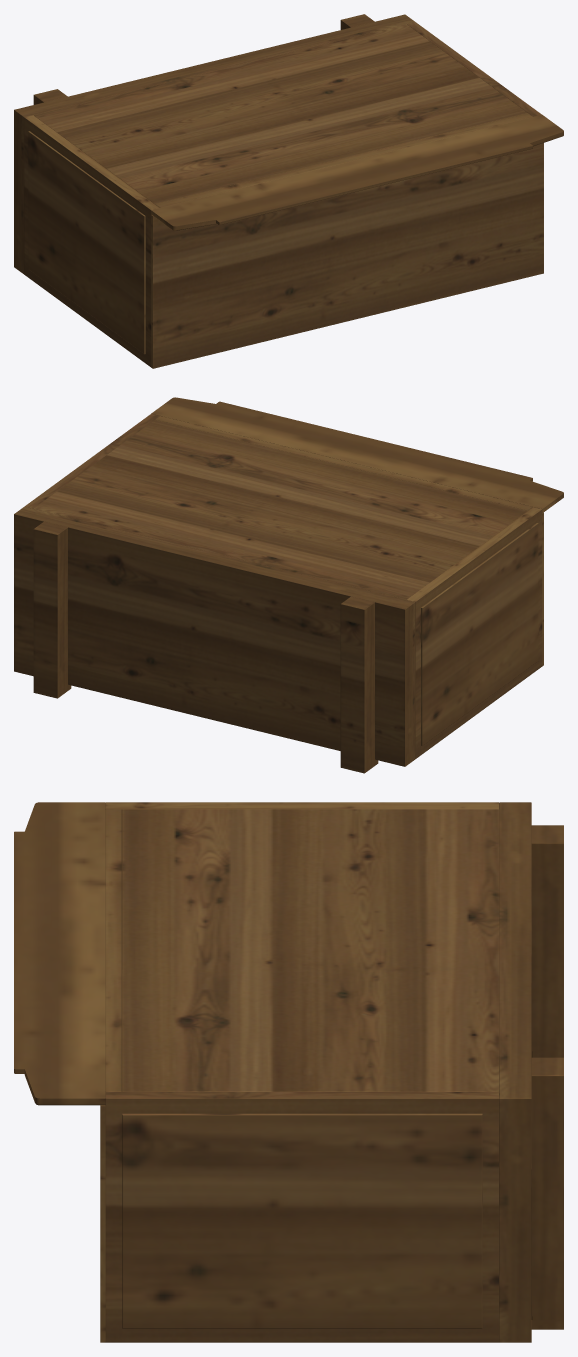
The model's file is raw_model.glb.
3 renders of one model, top to bottom at view 1: azimuth 30°, elevation 25°; view 2: azimuth 150°, elevation 25°; view 3: azimuth 270°, elevation 25°, orthographic. The views are drawn at different scales.
Visible parts, largest first — view 1: raw_model.007; view 2: raw_model.007; view 3: raw_model.007.
Part boxes in pixels (x1=…): raw_model.007: x1=14, y1=14, x2=563, y2=368; raw_model.007: x1=14, y1=397, x2=563, y2=773; raw_model.007: x1=14, y1=802, x2=563, y2=1342.
Bounding box in the file's own units: 0.9941 × 0.3946 × 0.774.
Materials: 1 (1 with a texture image).
